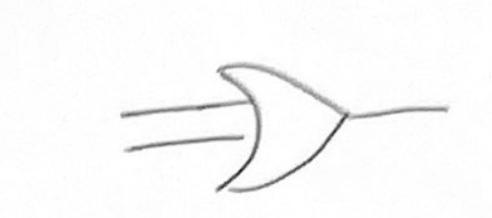OR: (198, 46, 359, 201)
